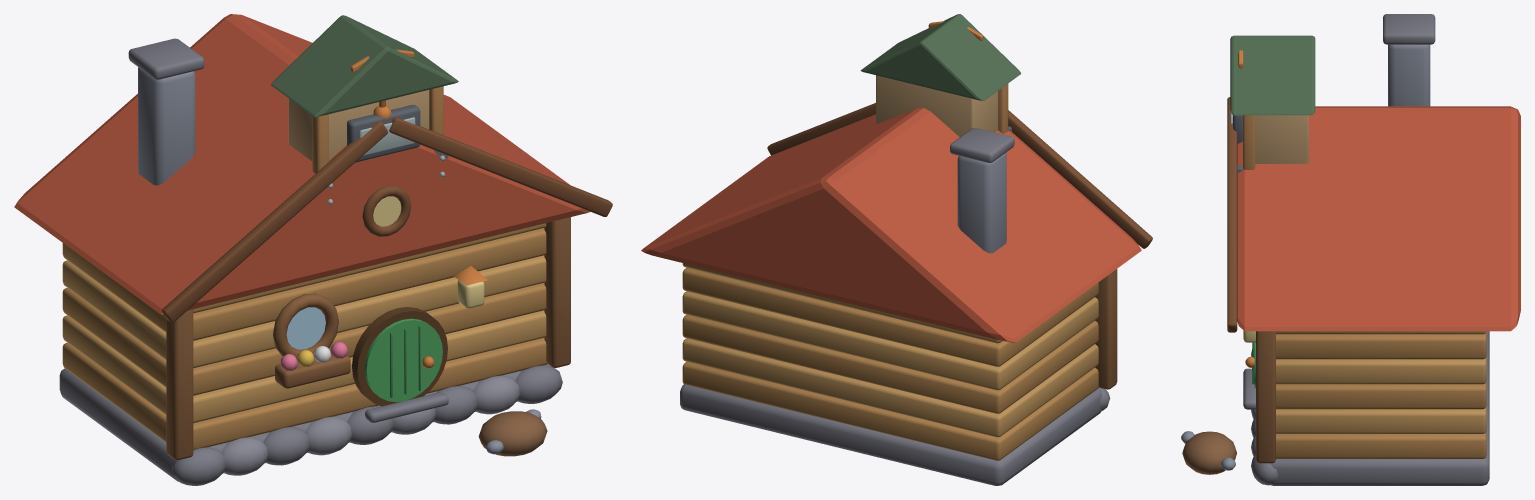
File: res_pip2.glb
The picture shows the model from 3 angles, left to right: view 1: azimuth 30°, elevation 25°; view 2: azimuth 150°, elevation 25°; view 3: azimuth 270°, elevation 25°; orthographic projection. The views are drawn at different scales.
Parts seen in each view (by area): view 1: base, roof, walls, iron, frame; view 2: base, roof, walls; view 3: base, roof, walls, frame.
Part boxes in pixels (x1,y1,x2,y2): base: (14, 14, 612, 485); roof: (271, 15, 458, 117); walls: (288, 90, 429, 161); iron: (327, 105, 448, 204); frame: (312, 86, 443, 173); base: (641, 21, 1152, 485); roof: (860, 14, 1021, 100); walls: (876, 75, 997, 136); base: (1181, 14, 1520, 485); roof: (1230, 35, 1315, 115); walls: (1255, 115, 1308, 163); frame: (1243, 115, 1255, 169).
Size of the model in its own units: 3.75 by 3.39 by 2.72.
